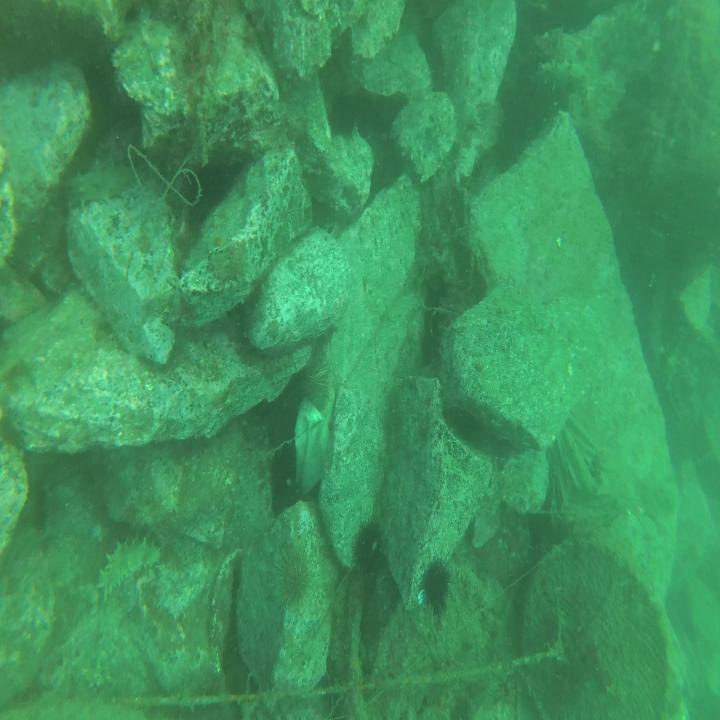echinus: (350, 519, 387, 579), (418, 558, 452, 622), (271, 445, 299, 513)
holothurian: (62, 157, 145, 211), (94, 535, 162, 598), (531, 51, 592, 100)
